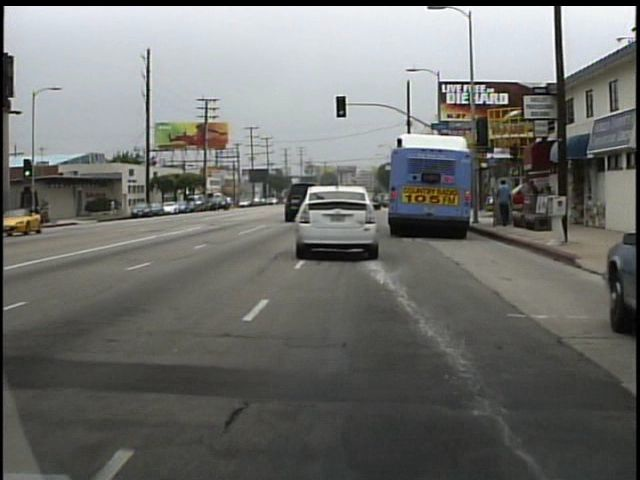person: (491, 178, 513, 232), (109, 195, 120, 218)
